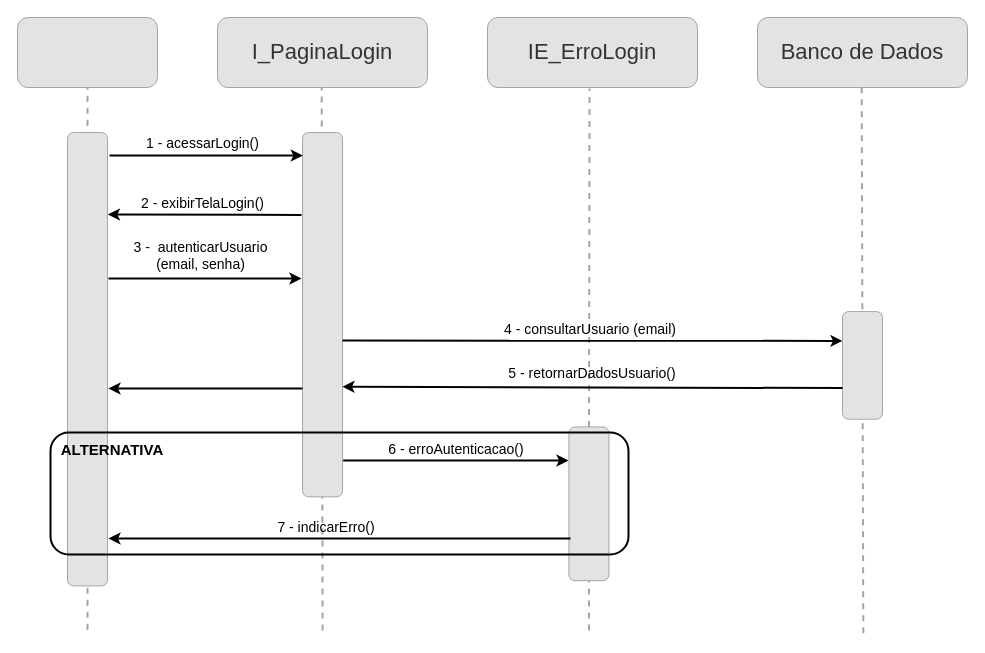
This 985x653 diagram has some shape labels left out. The centre of each missing label's shape, as x and y in pixels:
"6 - mostrarPaginaInicial()" belongs at pixel 87 359.
"Usuário" belongs at pixel 87 52.
